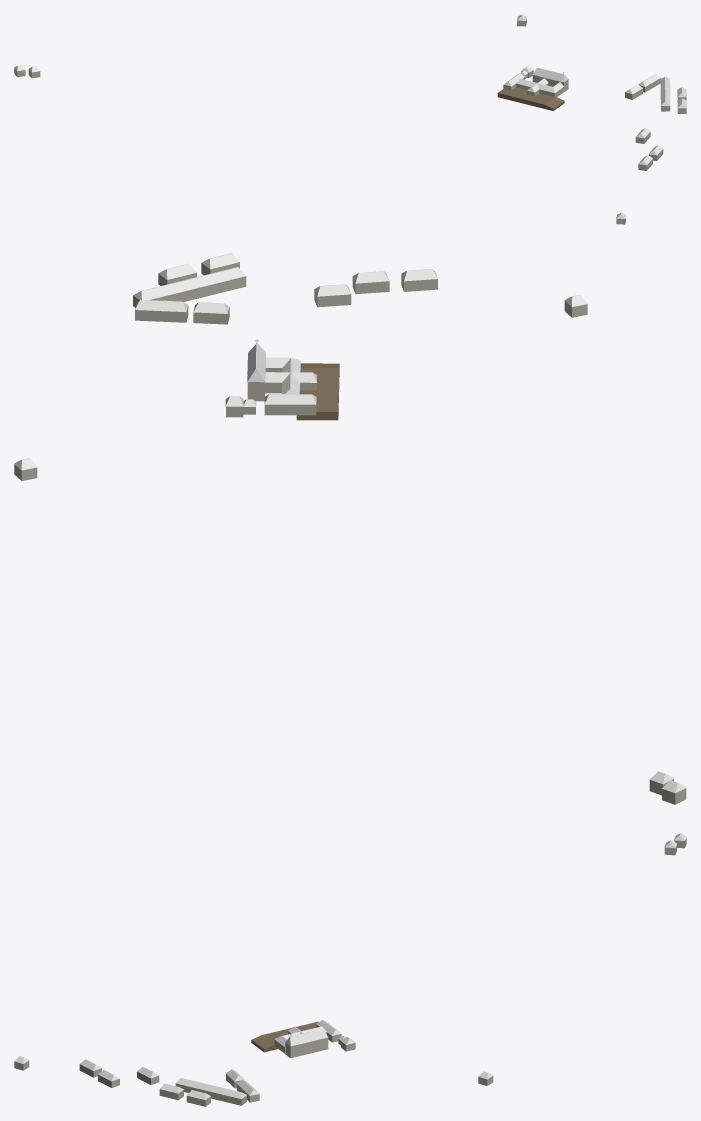
The model's file is ExteriorSigleHouses1.fbx.
3 views of the same model, one above another, from view 1: azimuth 30°, elevation 25°; view 2: azimuth 150°, elevation 25°; view 3: azimuth 270°, elevation 25° (orthographic). The views are drawn at different scales.
Visible parts, largest first — view 1: SingleExteriorWallRoof1; view 2: SingleExteriorWallRoof1; view 3: SingleExteriorWallRoof1.
Boxes of the visible parts, box(x1,y1,x2,y2) form: SingleExteriorWallRoof1: box(14, 14, 686, 224); SingleExteriorWallRoof1: box(14, 253, 686, 804); SingleExteriorWallRoof1: box(14, 833, 686, 1106).
Bounding box in the file's own units: 65850 × 7327 × 67717.
